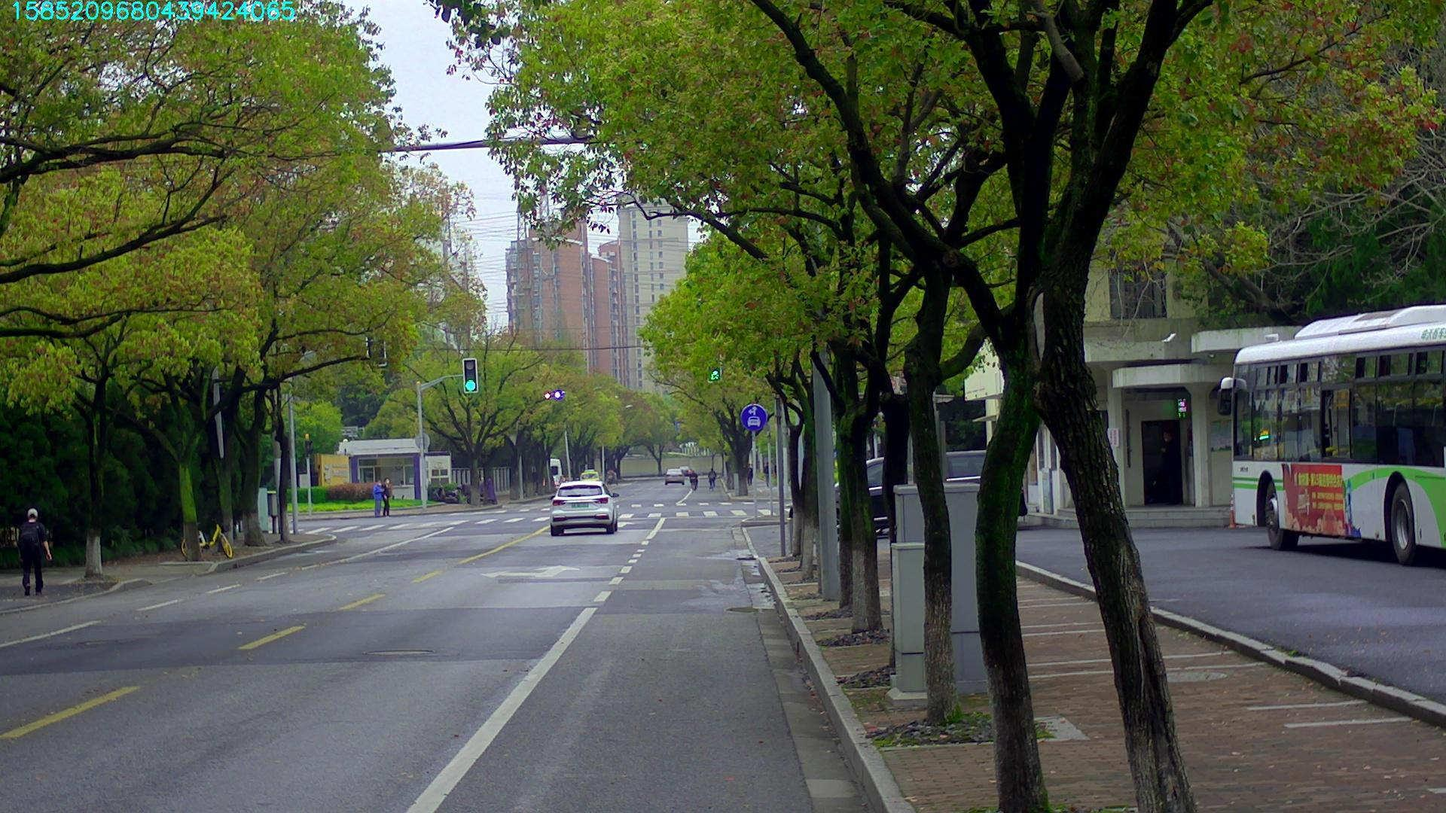green: (462, 358, 477, 391), (708, 349, 721, 381)
